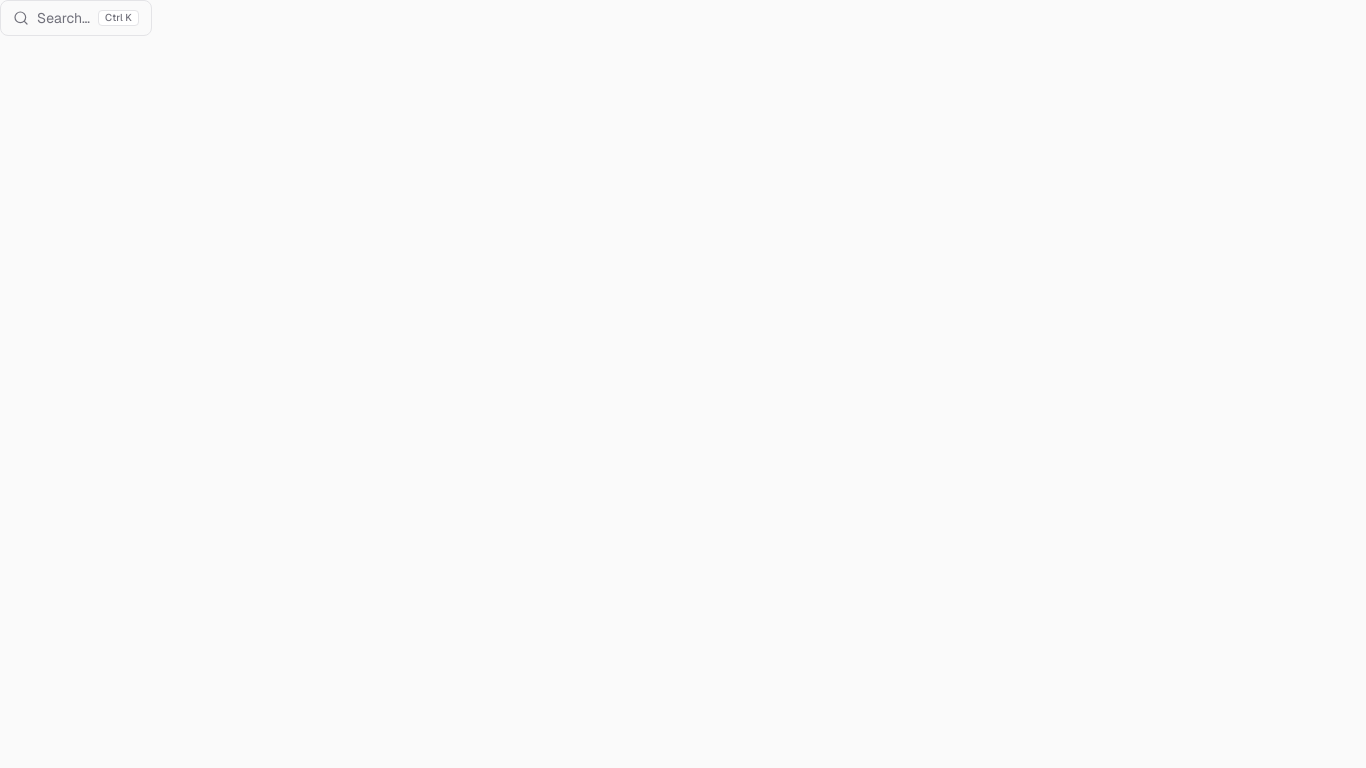
Test case: CommandPalette › opens with Ctrl+K and jumps to a page with the keyboard
Type keys "{Control>}k{/Control}"
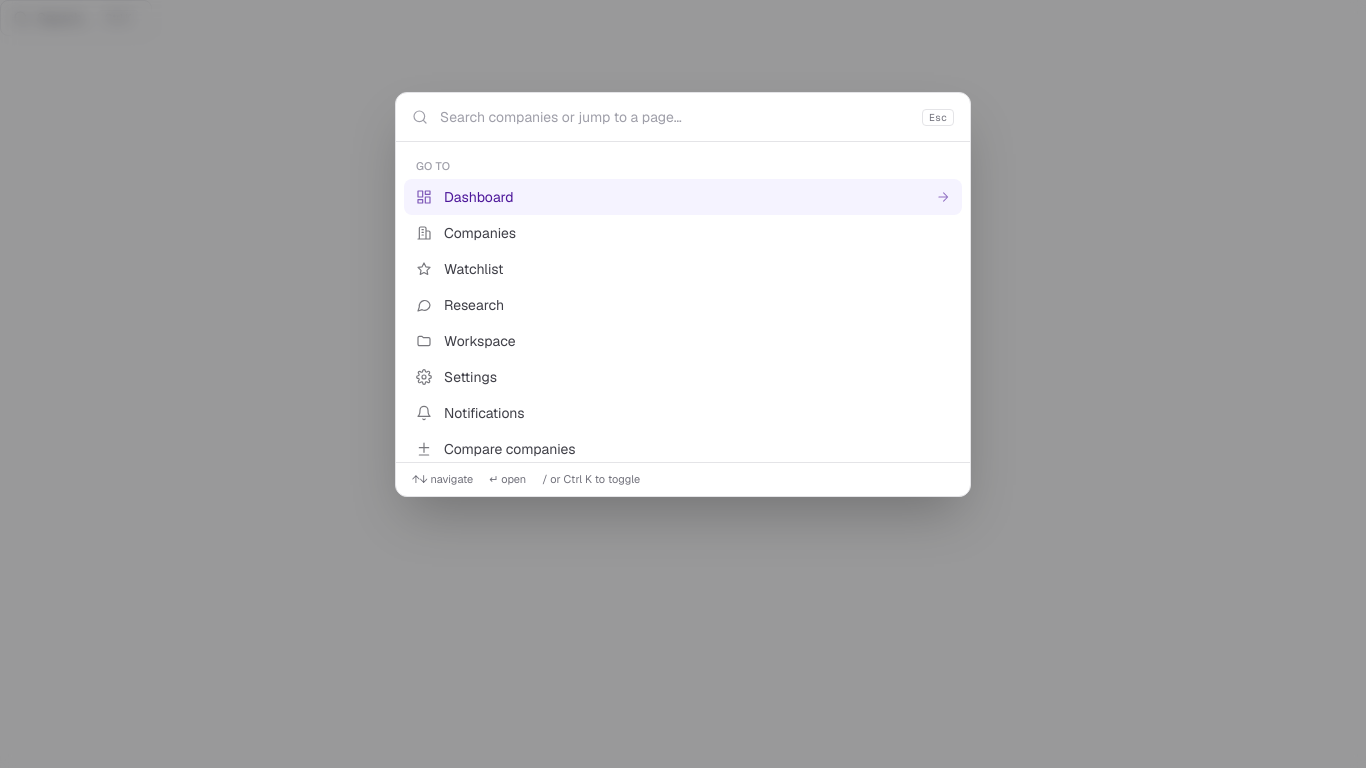
In the dropdown: (675,117) [440,93,910,141], type "watch"
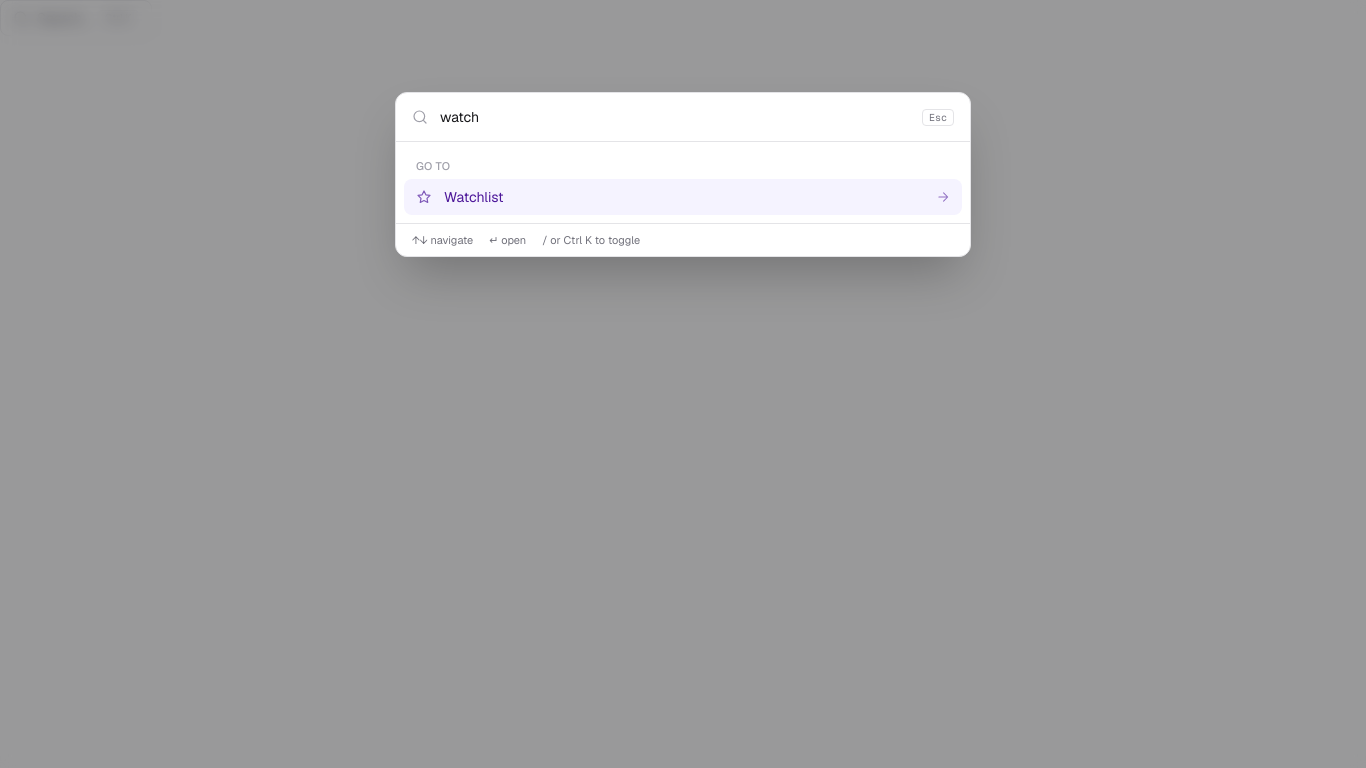
Expected: the option "Watchlist" is selected, [404,179,962,215]
Press Enter
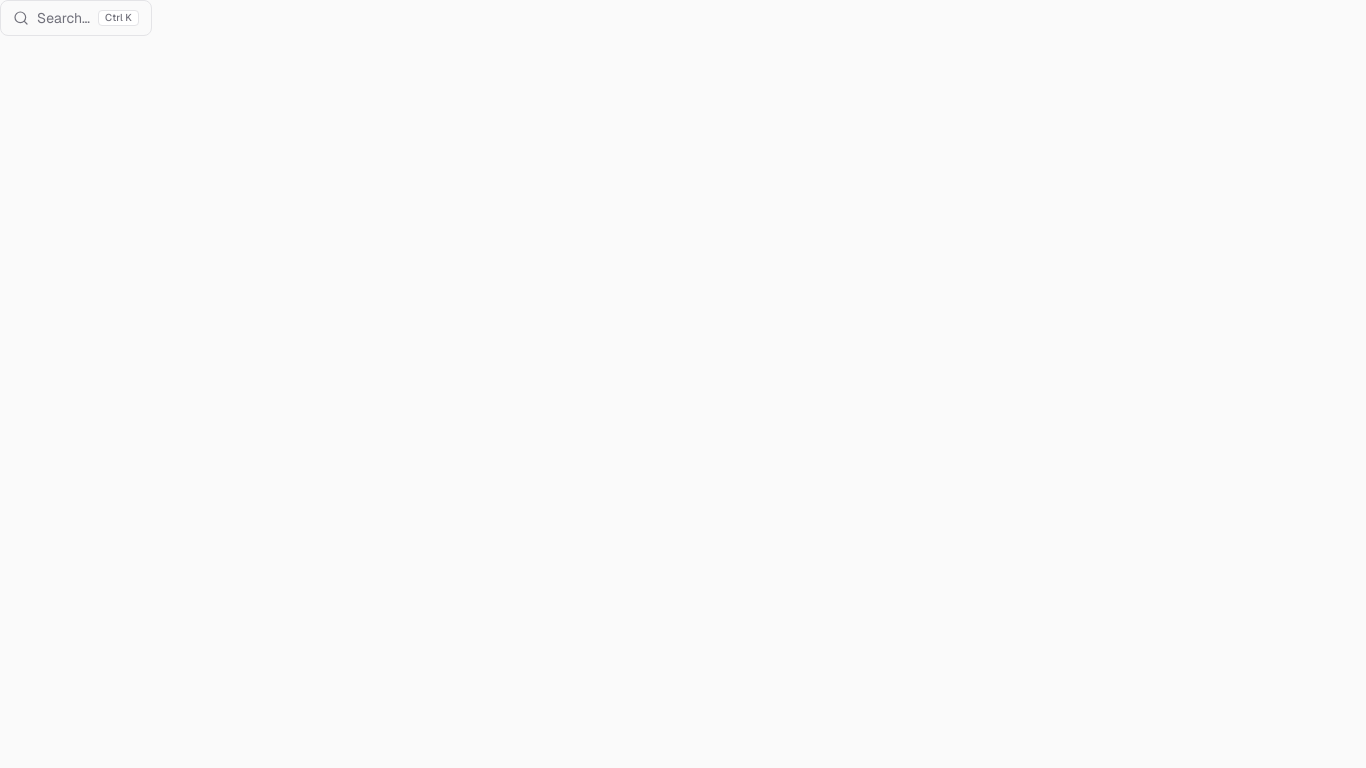
Expected: the dialog is gone
